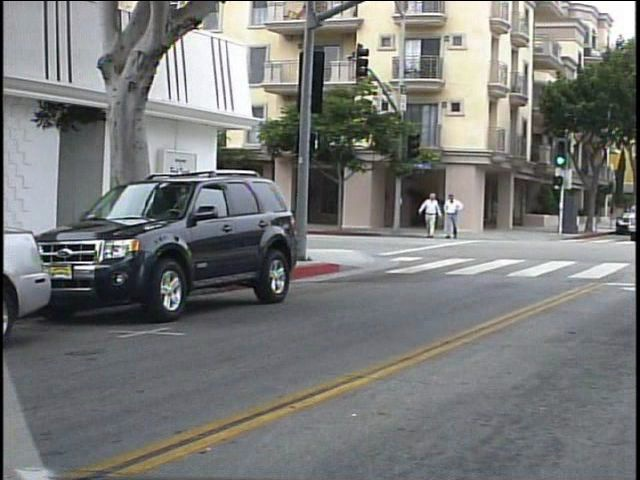person: (421, 187, 446, 245), (444, 189, 469, 243)
